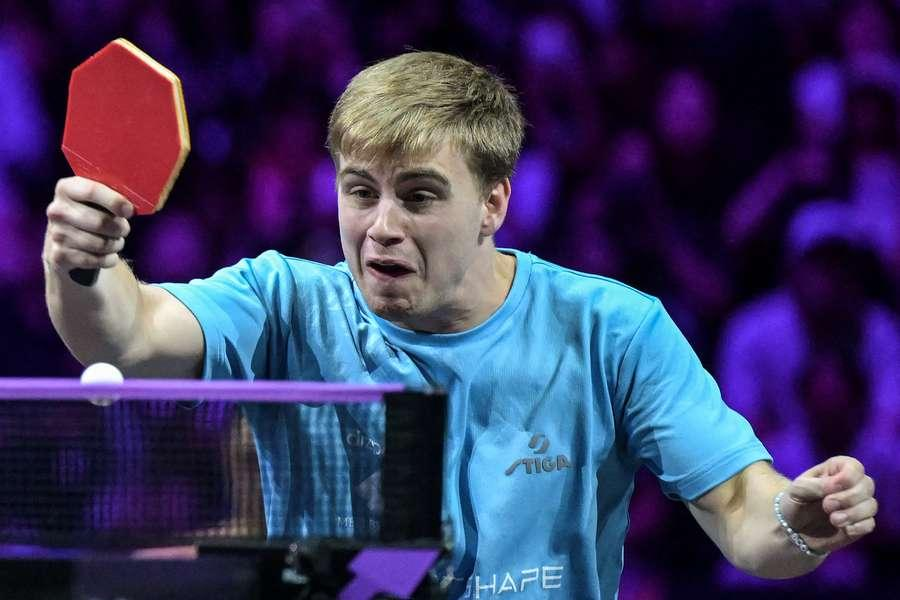ball_pingpong: (78, 361, 124, 409)
